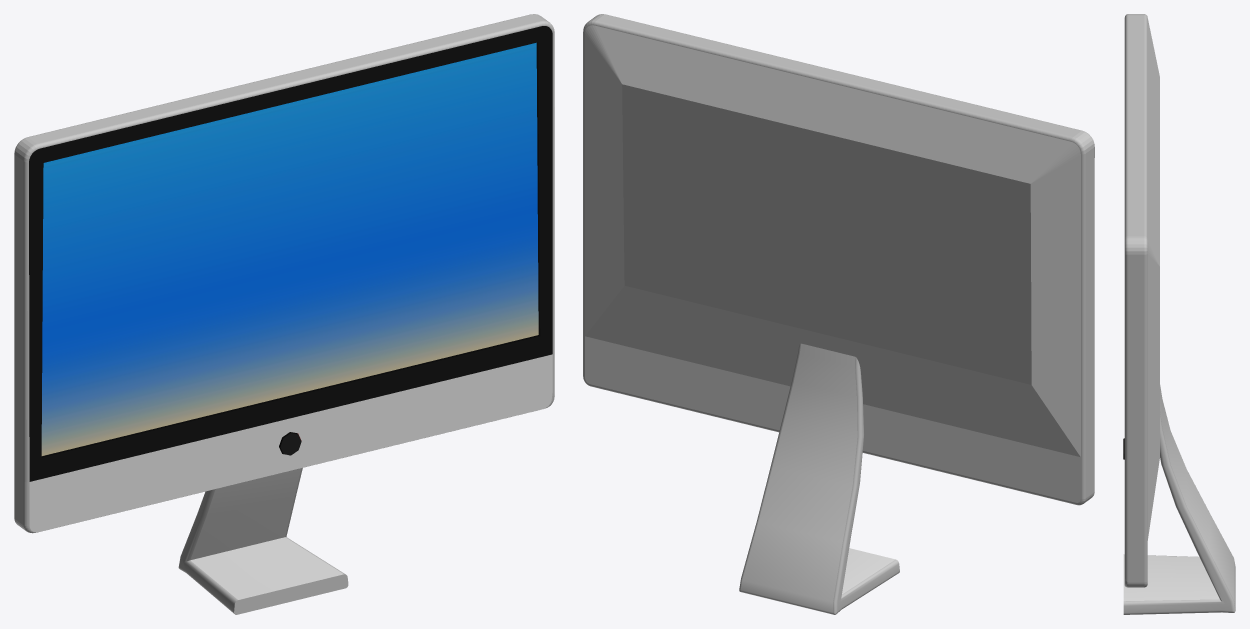
File: monitor.fbx
3 renders of one model, left to right at view 1: azimuth 30°, elevation 25°; view 2: azimuth 150°, elevation 25°; view 3: azimuth 270°, elevation 25°, orthographic. The views are drawn at different scales.
Visible parts, largest first — view 1: Cube.001; view 2: Cube.001; view 3: Cube.001.
Boxes of the visible parts, x1,y1,x2,y2 form: Cube.001: (14,14,554,614); Cube.001: (583,14,1094,614); Cube.001: (1123,14,1235,614).
Size of the model in its own units: 3577 by 3336 by 729.
1 material, 1 textured.
